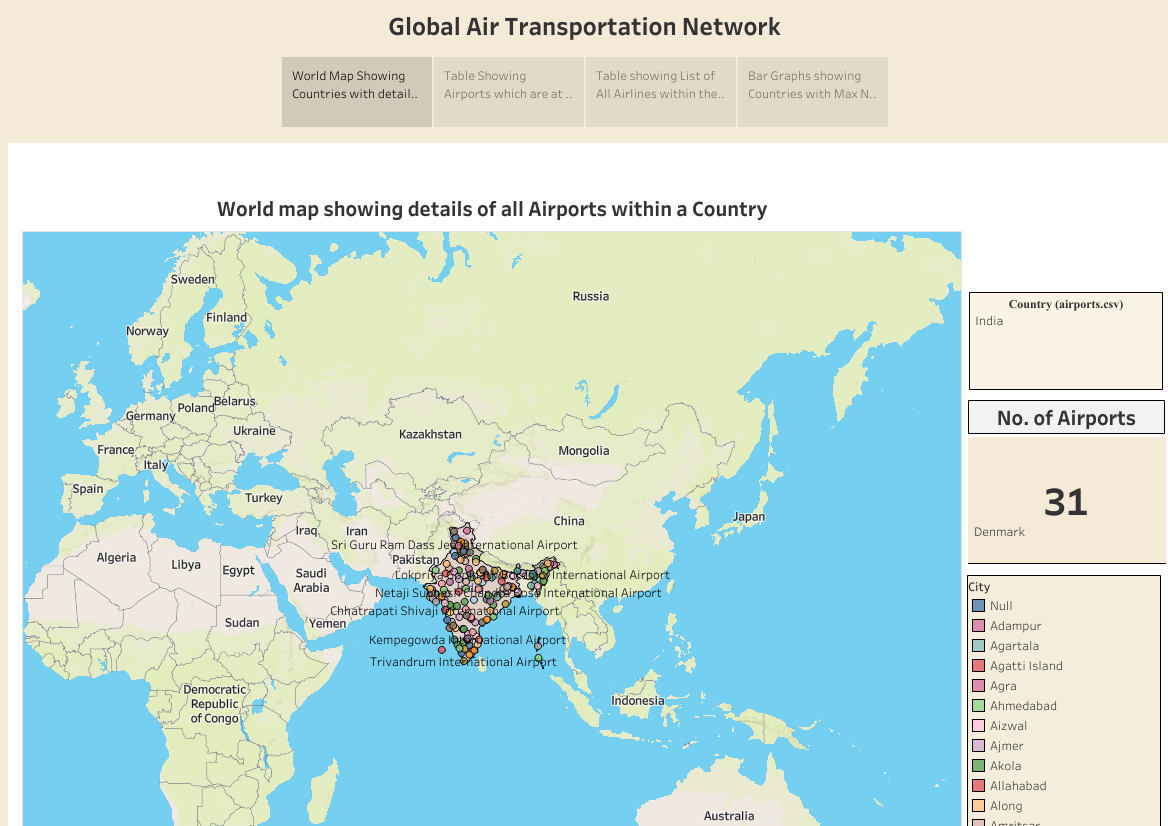

The page's visual inventory and layout, read from the dashboard file:
{"tool":"tableau","page":{"name":"Dashboard 1","canvas":[1169,827],"ordinal":0},"visuals":[{"type":"worksheet","title":"World map showing details of all Airports within a Country","mark":"Multipolygon","rows":["Latitude"],"cols":["Longitude","Longitude"],"box":[14,45,940,774]},{"type":"filter","title":"World map showing details of all Airports within a Country","param":"[federated.186ocz514s2u791d33luy1xl23ob].[none:Country (airports.csv):nk]","box":[961,149,194,98]},{"type":"worksheet","title":"No. of Airports","mark":"Automatic","box":[960,257,197,164]},{"type":"filter","title":"No. of Airports","param":"[federated.186ocz514s2u791d33luy1xl23ob].[none:Country (airports.csv):nk]","box":[964,379,160,44]},{"type":"legend","title":"World map showing details of all Airports within a Country","param":"[federated.186ocz514s2u791d33luy1xl23ob].[none:City:nk]","box":[959,432,194,383]}]}

Visuals, with their boxes on the page's 1169x827 design canvas (x1, y1, x2, y2). These are canvas units, not pixel positions in the 1168x826 screenshot, which may show the page scaled, cropped or inside an application window:
"World map showing details of all Airports within a Country" worksheet (Multipolygon marks): (14, 45, 954, 819)
"World map showing details of all Airports within a Country" filter: (961, 149, 1155, 247)
"No. of Airports" worksheet: (960, 257, 1157, 421)
"No. of Airports" filter: (964, 379, 1124, 423)
"World map showing details of all Airports within a Country" legend: (959, 432, 1153, 815)
